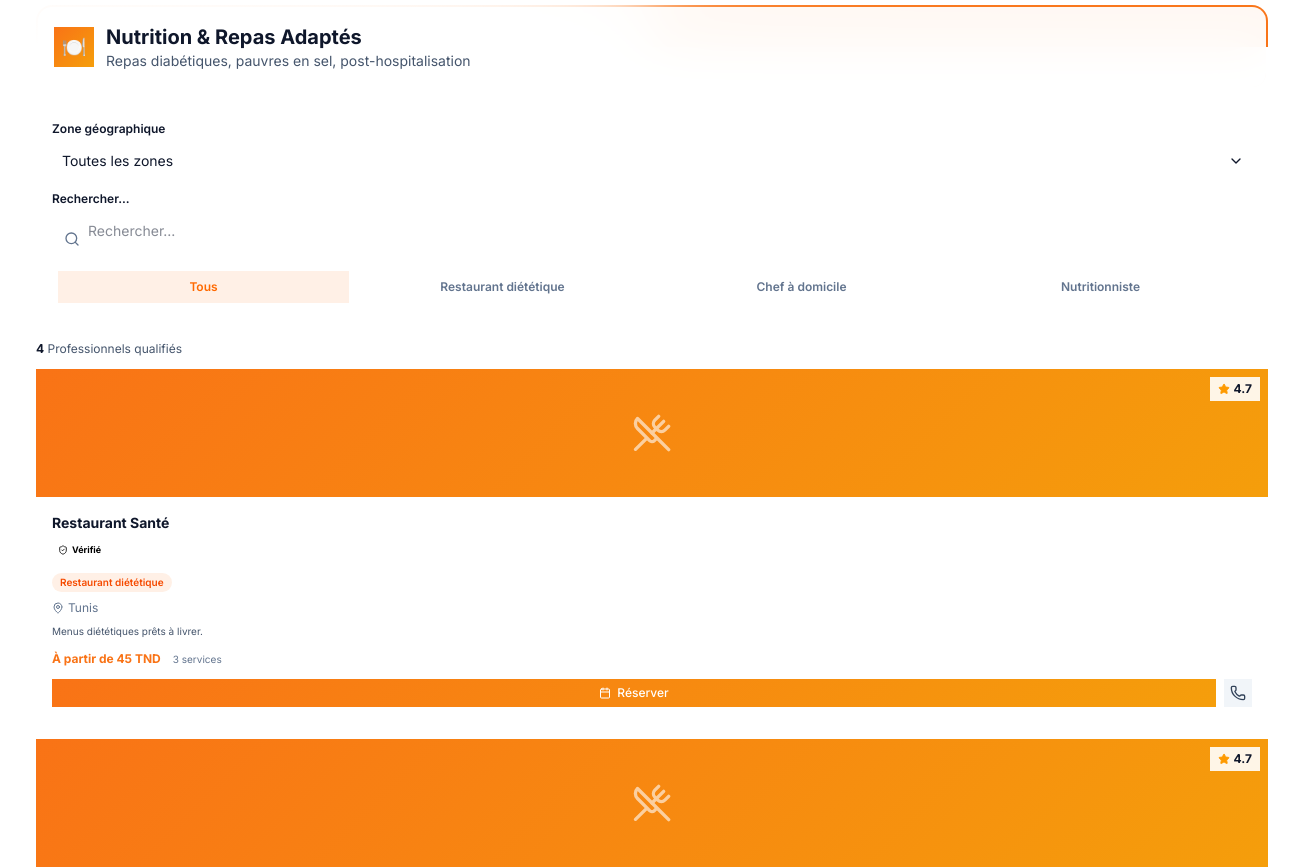
Test: NutritionProvidersPage › renders localized subtype chips and keeps null-subtype providers only under Tous
Expected: the button "Tous" is shown, [58, 271, 349, 303]
Expected: the button "Chef à domicile" is shown, [656, 271, 947, 303]
Click the button "Restaurant diététique": click(502, 287) [357, 271, 648, 303]
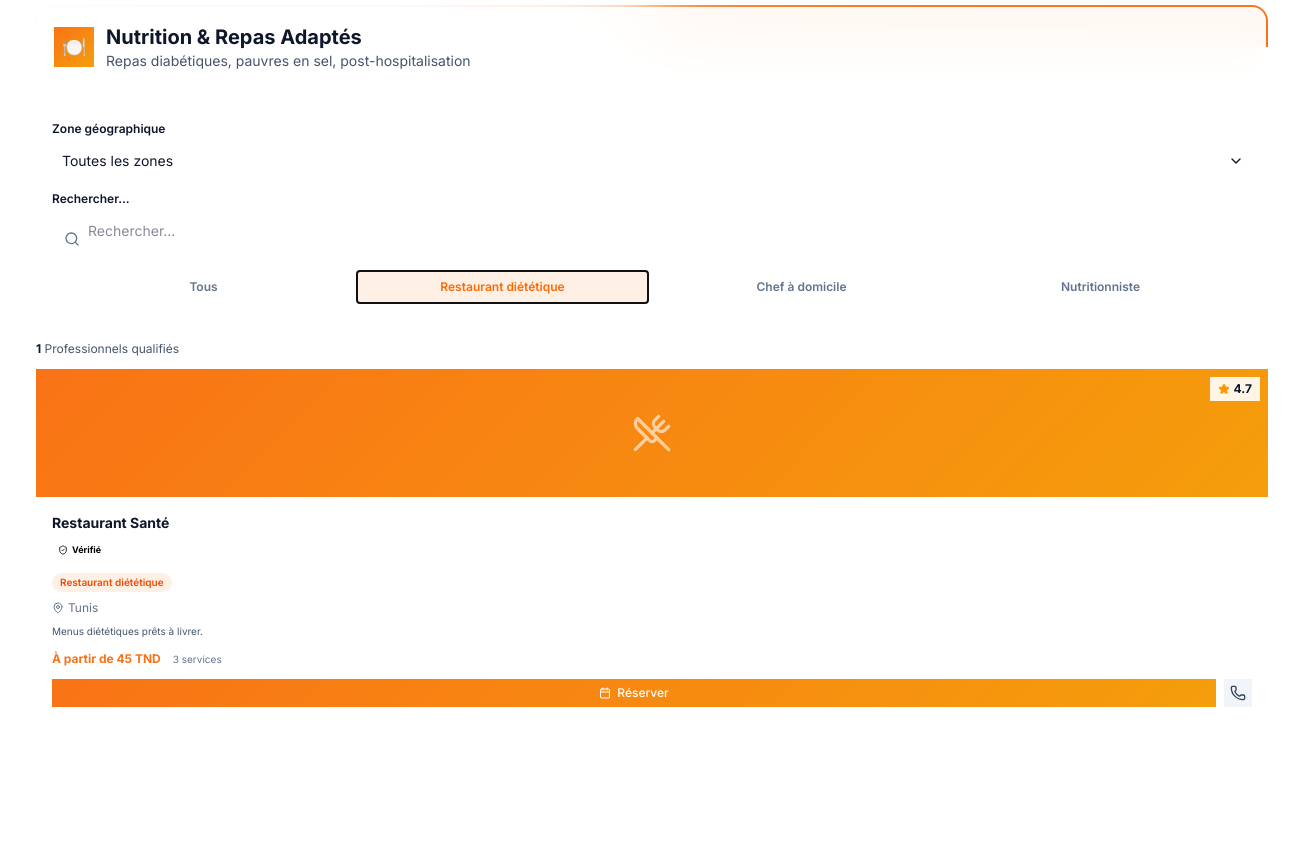
Expected: the heading "Restaurant Santé" is shown, [52, 514, 169, 531]
Now the number of buttons "Réserver" is 1, box [52, 679, 1216, 707]
Click the button "Tous": click(204, 287) [58, 271, 349, 303]
(page scrolled)
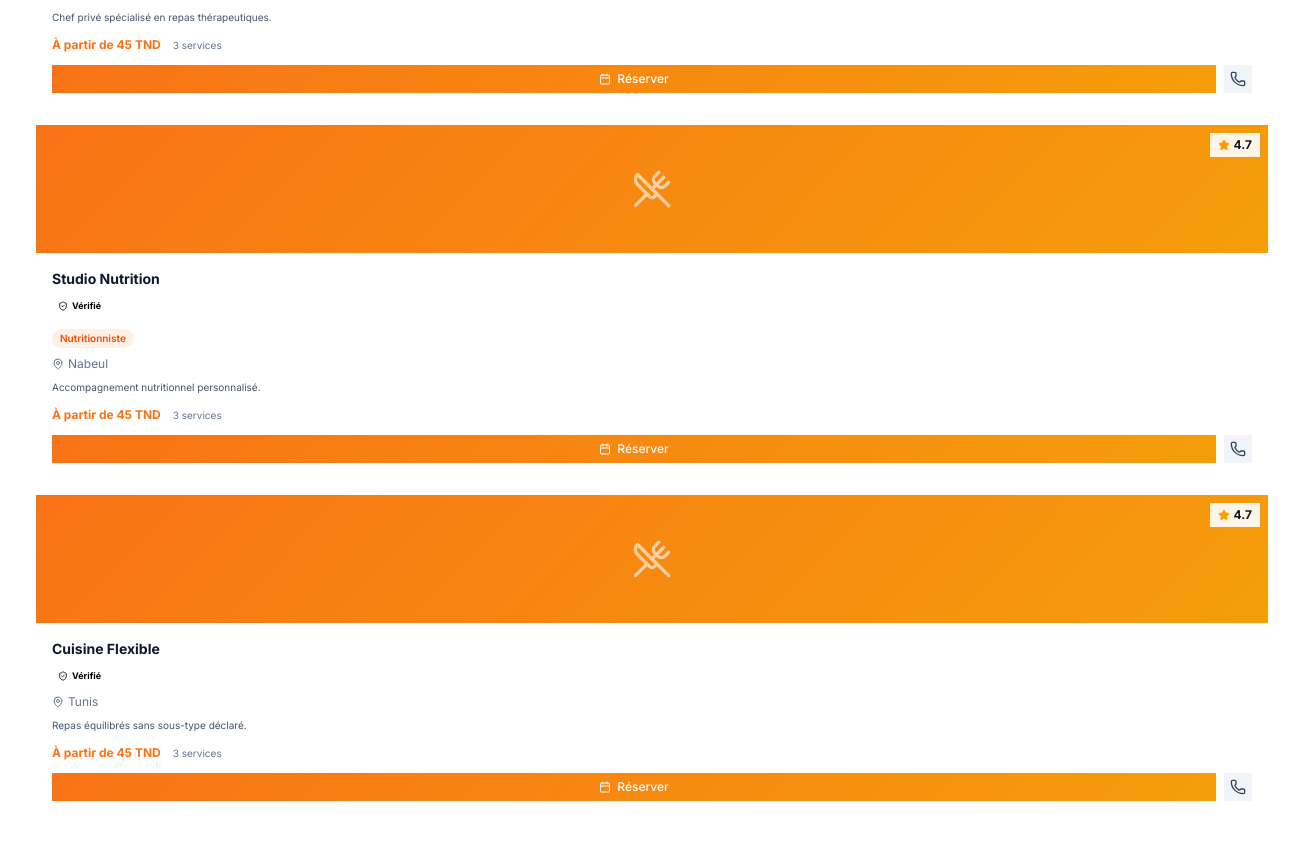
Now the heading "Studio Nutrition" is shown, box [52, 270, 160, 287]
Now the heading "Cuisine Flexible" is shown, box [52, 640, 160, 657]
